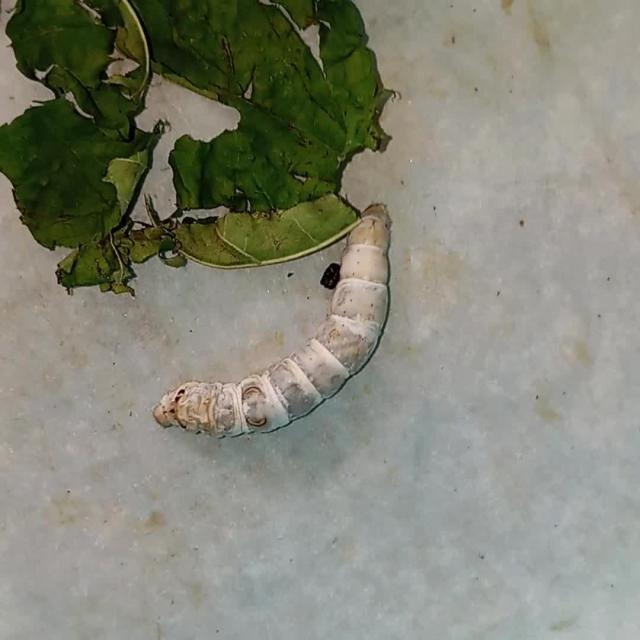Grasserie: (150, 202, 400, 446)
